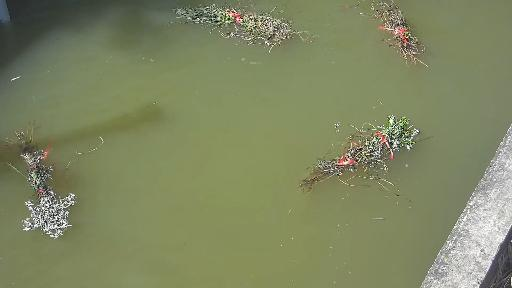twig: (304, 109, 426, 208), (171, 1, 321, 58), (6, 124, 78, 241), (363, 4, 446, 70)
